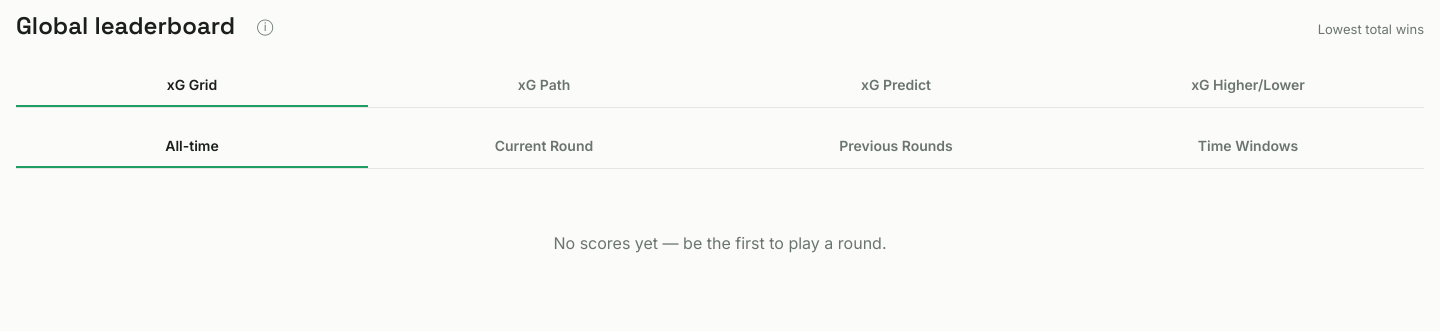
WindowedLeaderboard › REQ405: an empty window response shows the calm empty-state message, not an error
This screenshot has width=1440, height=331.
Expected: the text "No scores yet — be the first to play a round." is shown, [554,233,886,253]
Click the tab "Time Windows": (1248, 146) [1072,124,1424,168]
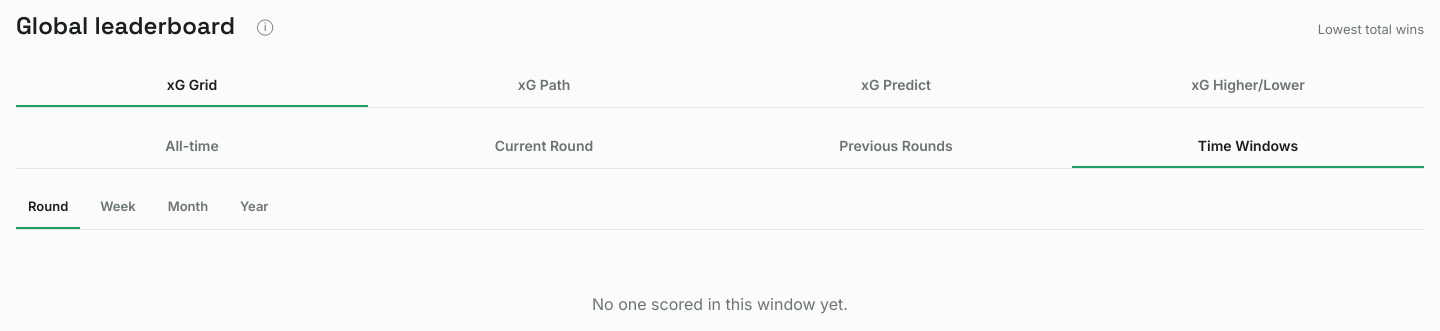
Expected: the text "No one scored in this window yet." is shown, [592,294,848,314]
